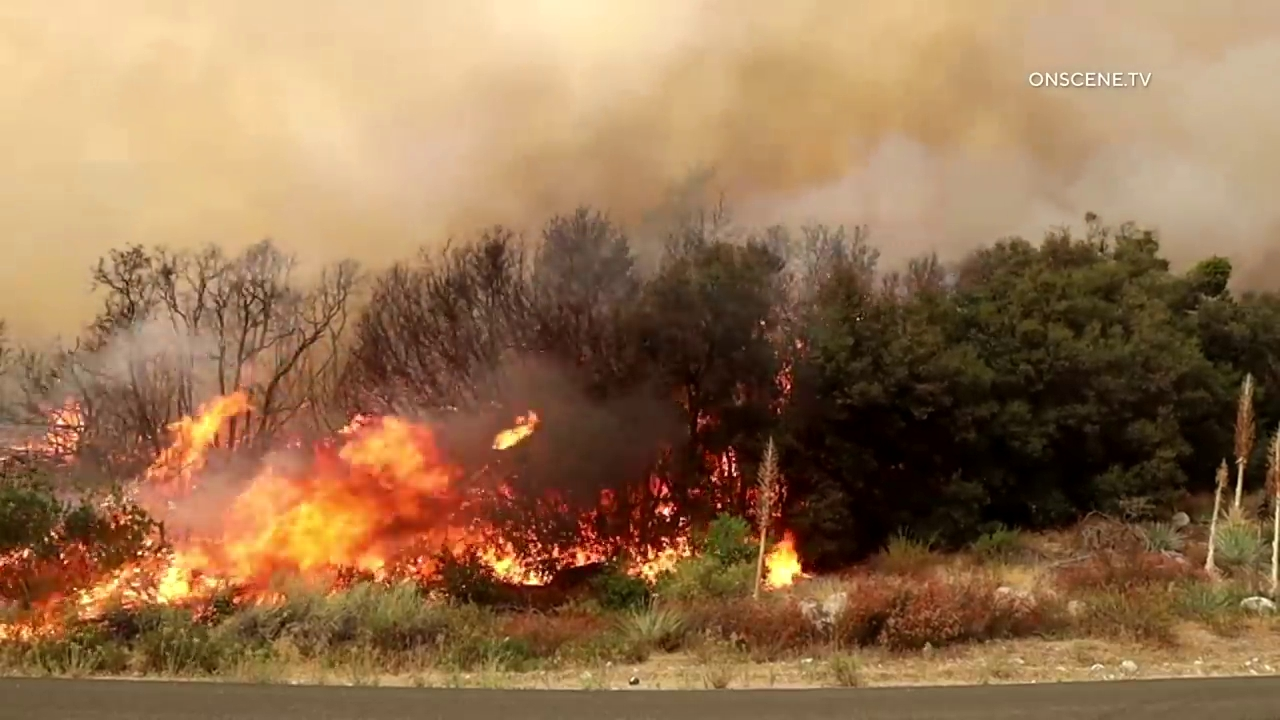forest_fire: (75, 391, 552, 609), (6, 401, 84, 458), (623, 536, 692, 579), (763, 533, 801, 588), (492, 411, 539, 450), (553, 546, 607, 566)
